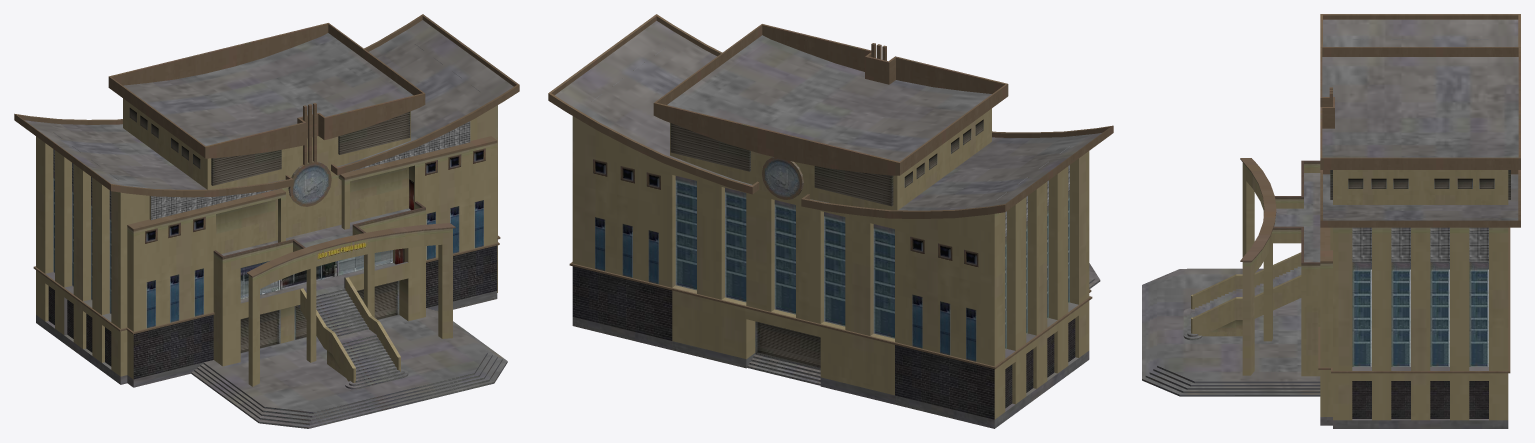
The picture shows the model from 3 angles, left to right: view 1: azimuth 30°, elevation 25°; view 2: azimuth 150°, elevation 25°; view 3: azimuth 270°, elevation 25°; orthographic projection. The views are drawn at different scales.
Parts seen in each view (by area): view 1: 6038a567fe6a880944911dee; view 2: 6038a567fe6a880944911dee; view 3: 6038a567fe6a880944911dee.
Boxes of the visible parts, left/top/right/bottom form: 6038a567fe6a880944911dee: left=14, top=14, right=519, bottom=428; 6038a567fe6a880944911dee: left=548, top=14, right=1113, bottom=428; 6038a567fe6a880944911dee: left=1142, top=14, right=1520, bottom=428.
Bounding box in the file's own units: 39 × 21.39 × 30.21.
1 material, 1 textured.
